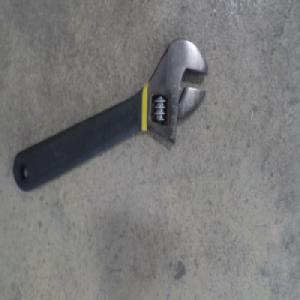AdjustableWrench: (14, 39, 209, 192)
